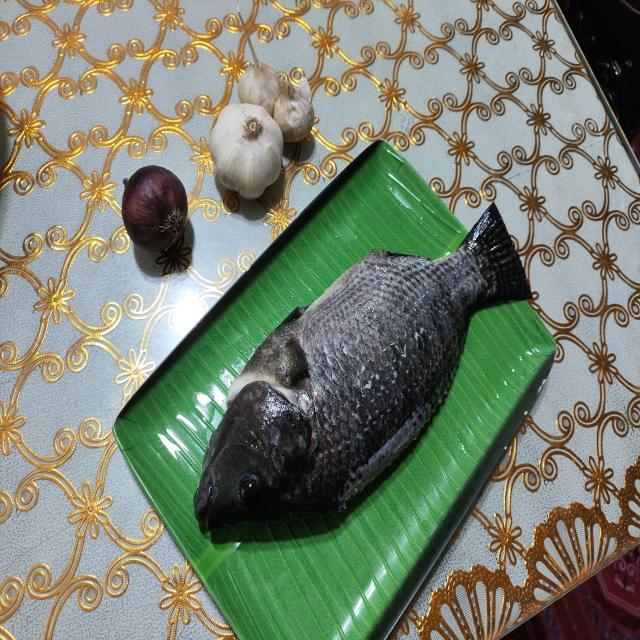fish: (205, 203, 534, 516)
garlic: (210, 59, 313, 203)
onion: (122, 170, 191, 253)
